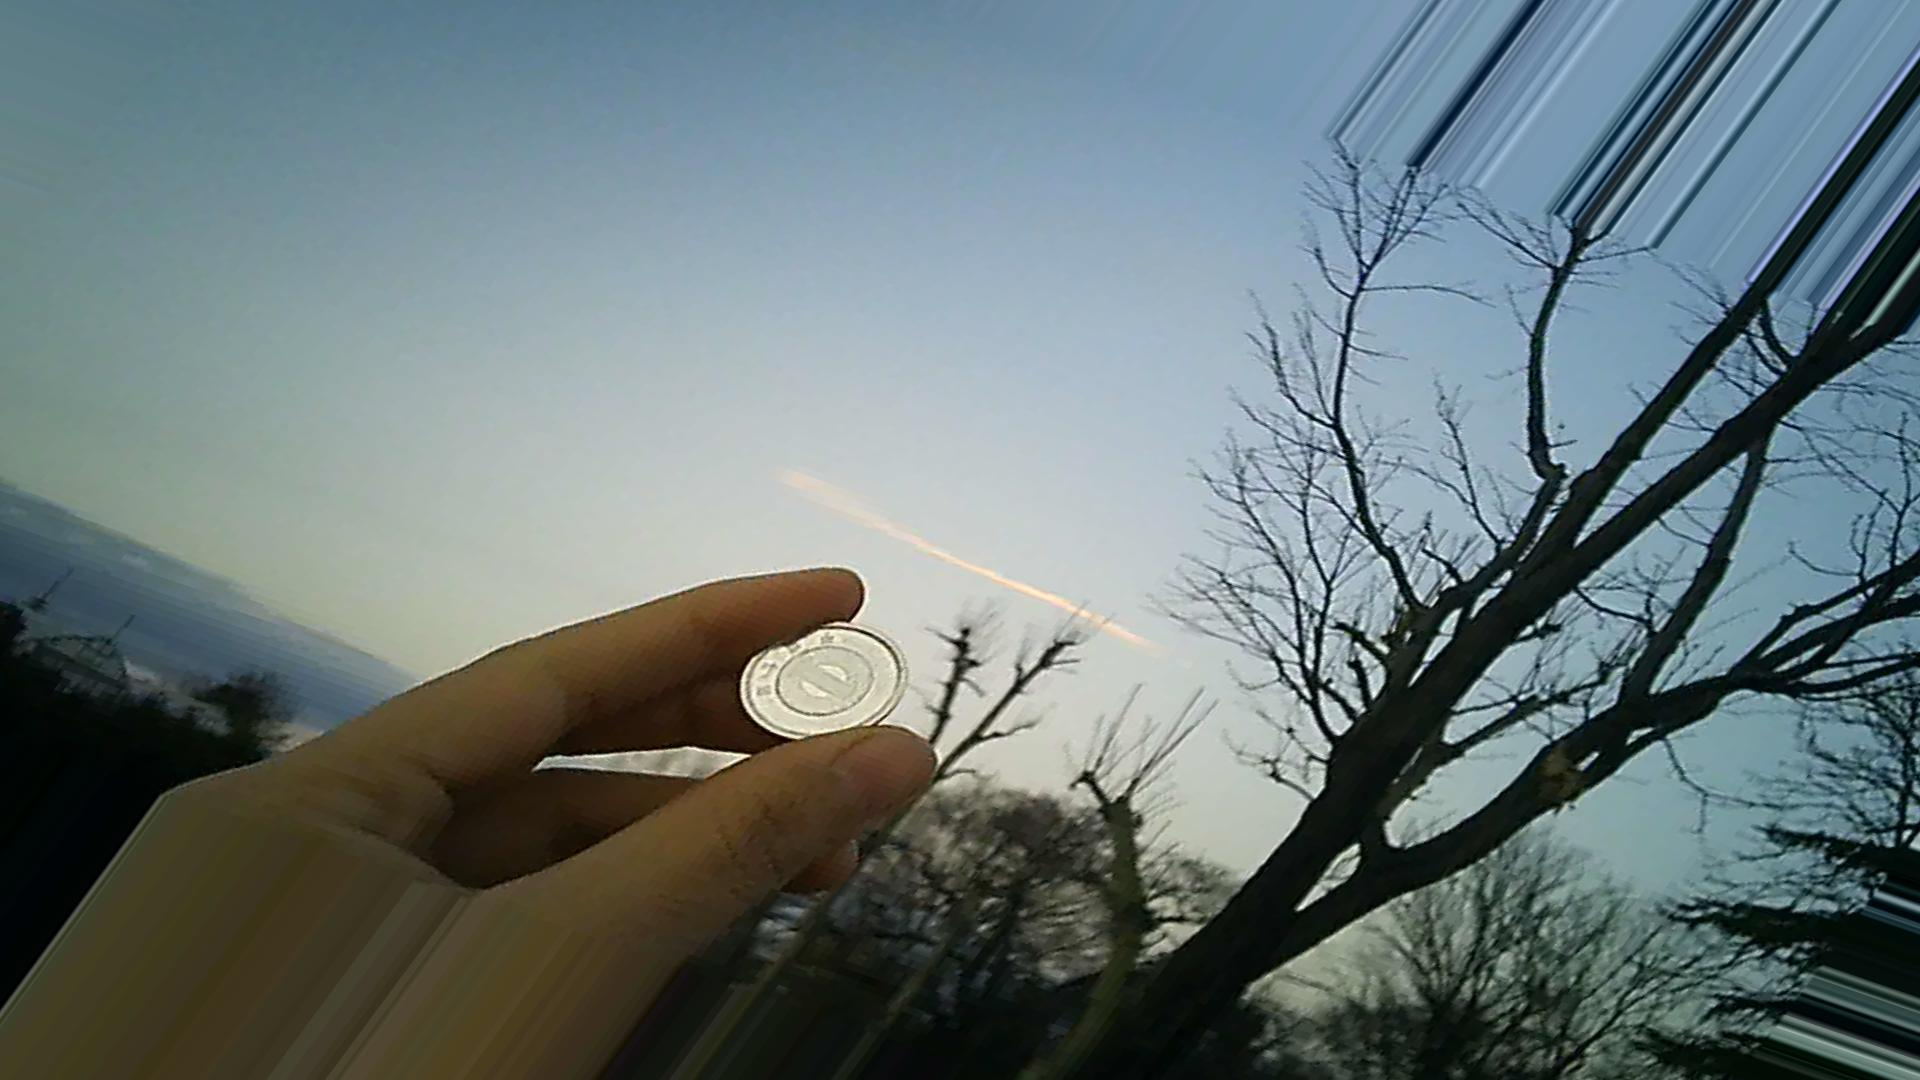1 Yen: (737, 611, 897, 766)
